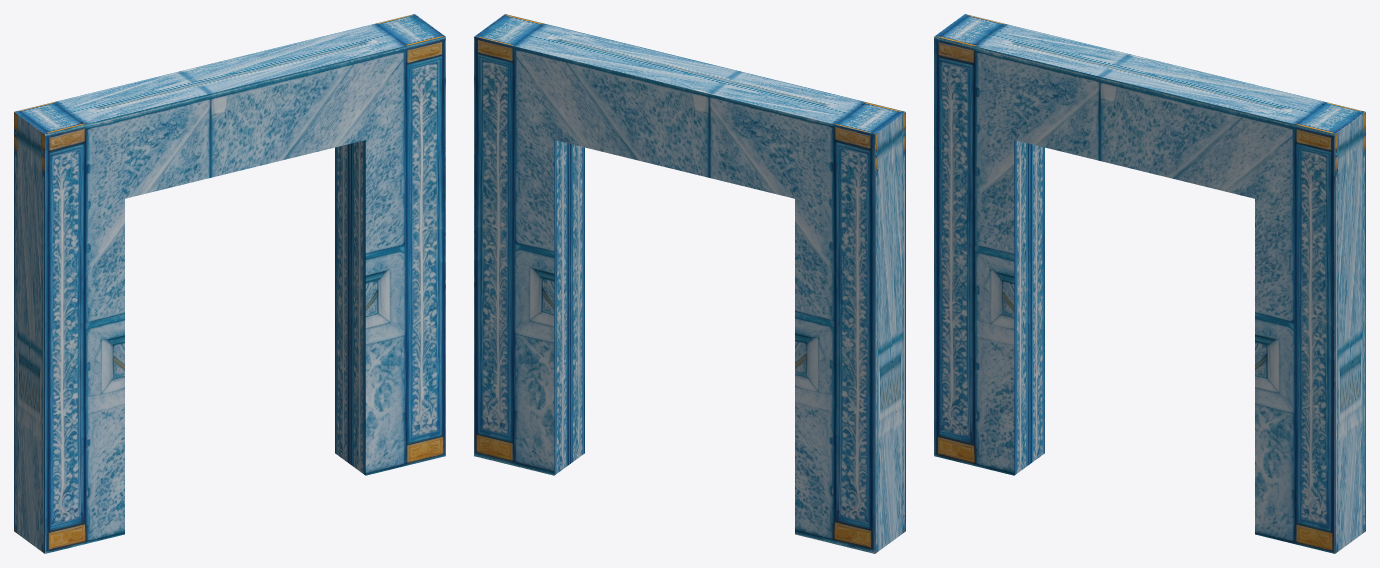
The model's file is frame_city.glb.
3 renders of one model, left to right at view 1: azimuth 30°, elevation 25°; view 2: azimuth 150°, elevation 25°; view 3: azimuth 330°, elevation 25°, orthographic.
Parts seen in each view (by area): view 1: Cube.001; view 2: Cube.001; view 3: Cube.001.
Boxes of the visible parts, <box> form: Cube.001: <box>14,14,445,553</box>; Cube.001: <box>474,14,905,553</box>; Cube.001: <box>934,14,1365,553</box>.
Size of the model in its own units: 3 by 3 by 0.4.
Materials: 1 (1 with a texture image).
